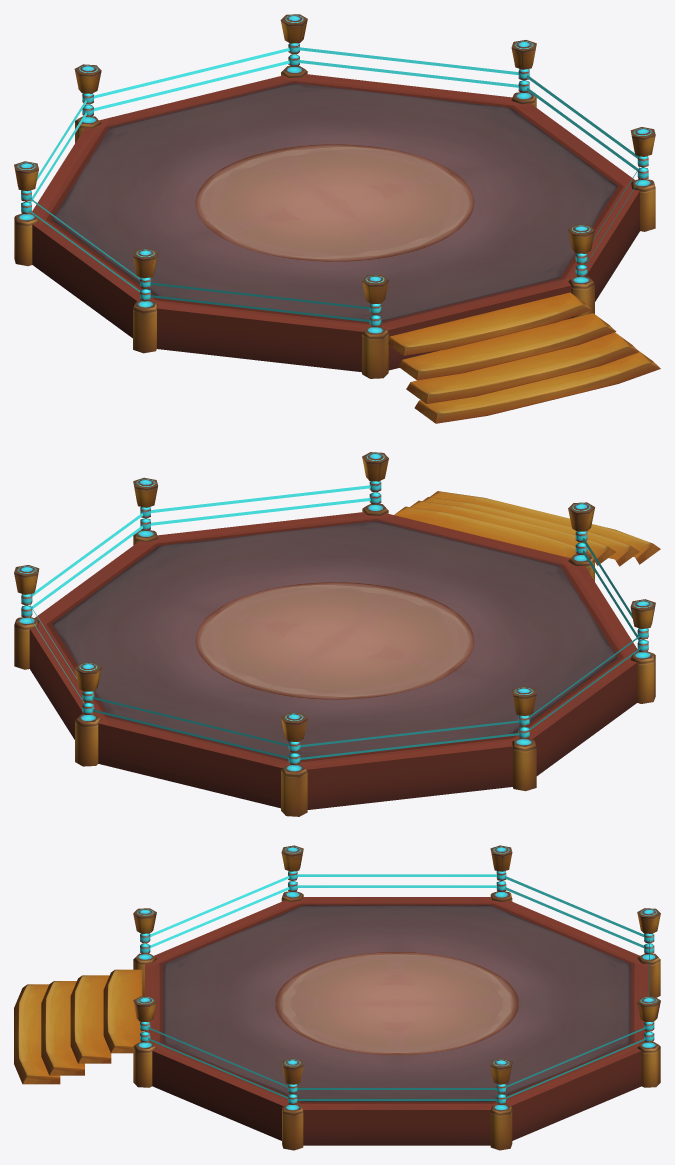
File: magnetcentral_arena.fbx
The picture shows the model from 3 angles, top to bottom: view 1: azimuth 30°, elevation 25°; view 2: azimuth 150°, elevation 25°; view 3: azimuth 270°, elevation 25°; orthographic projection. The views are drawn at different scales.
Visible parts, largest first — view 1: polySurface109; view 2: polySurface109; view 3: polySurface109.
Part boxes in pixels (<box>): polySurface109: <box>14,14,660,423</box>; polySurface109: <box>14,452,660,816</box>; polySurface109: <box>14,845,660,1150</box>.
Bounding box in the file's own units: 33.51 × 5.88 × 41.08.
